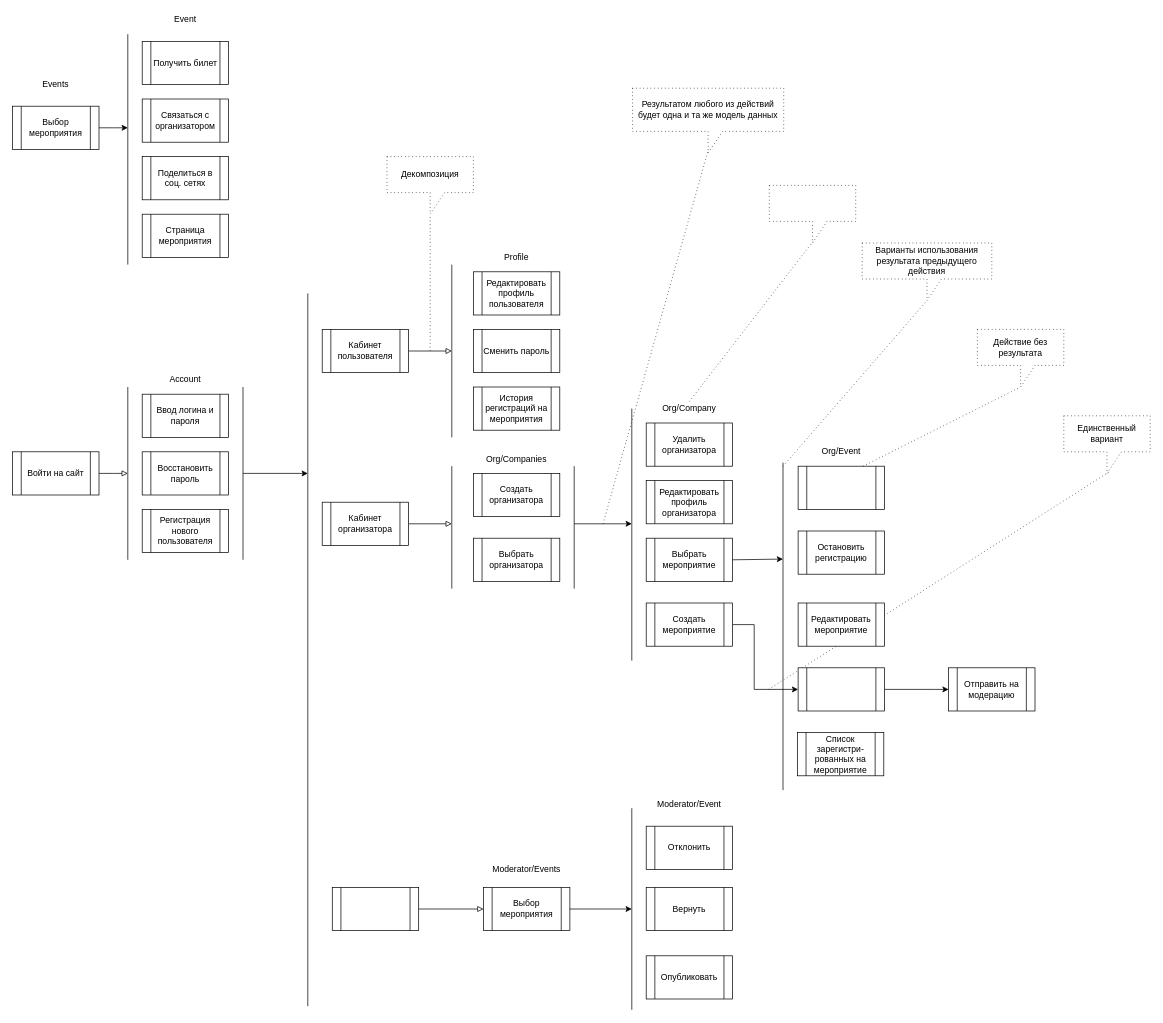
This 1163x1023 diagram has some shape labels left out. The shapes that lost their labels are listed below. From the top down, each one's box as (x1, y1, x2, y2) in pixels, then its label:
(769, 185, 856, 243): Место реализации Area/Controller
(797, 465, 885, 509): Удалить мероприятие
(797, 667, 885, 711): Предпросмотр
(332, 887, 419, 931): Кабинет модератора
